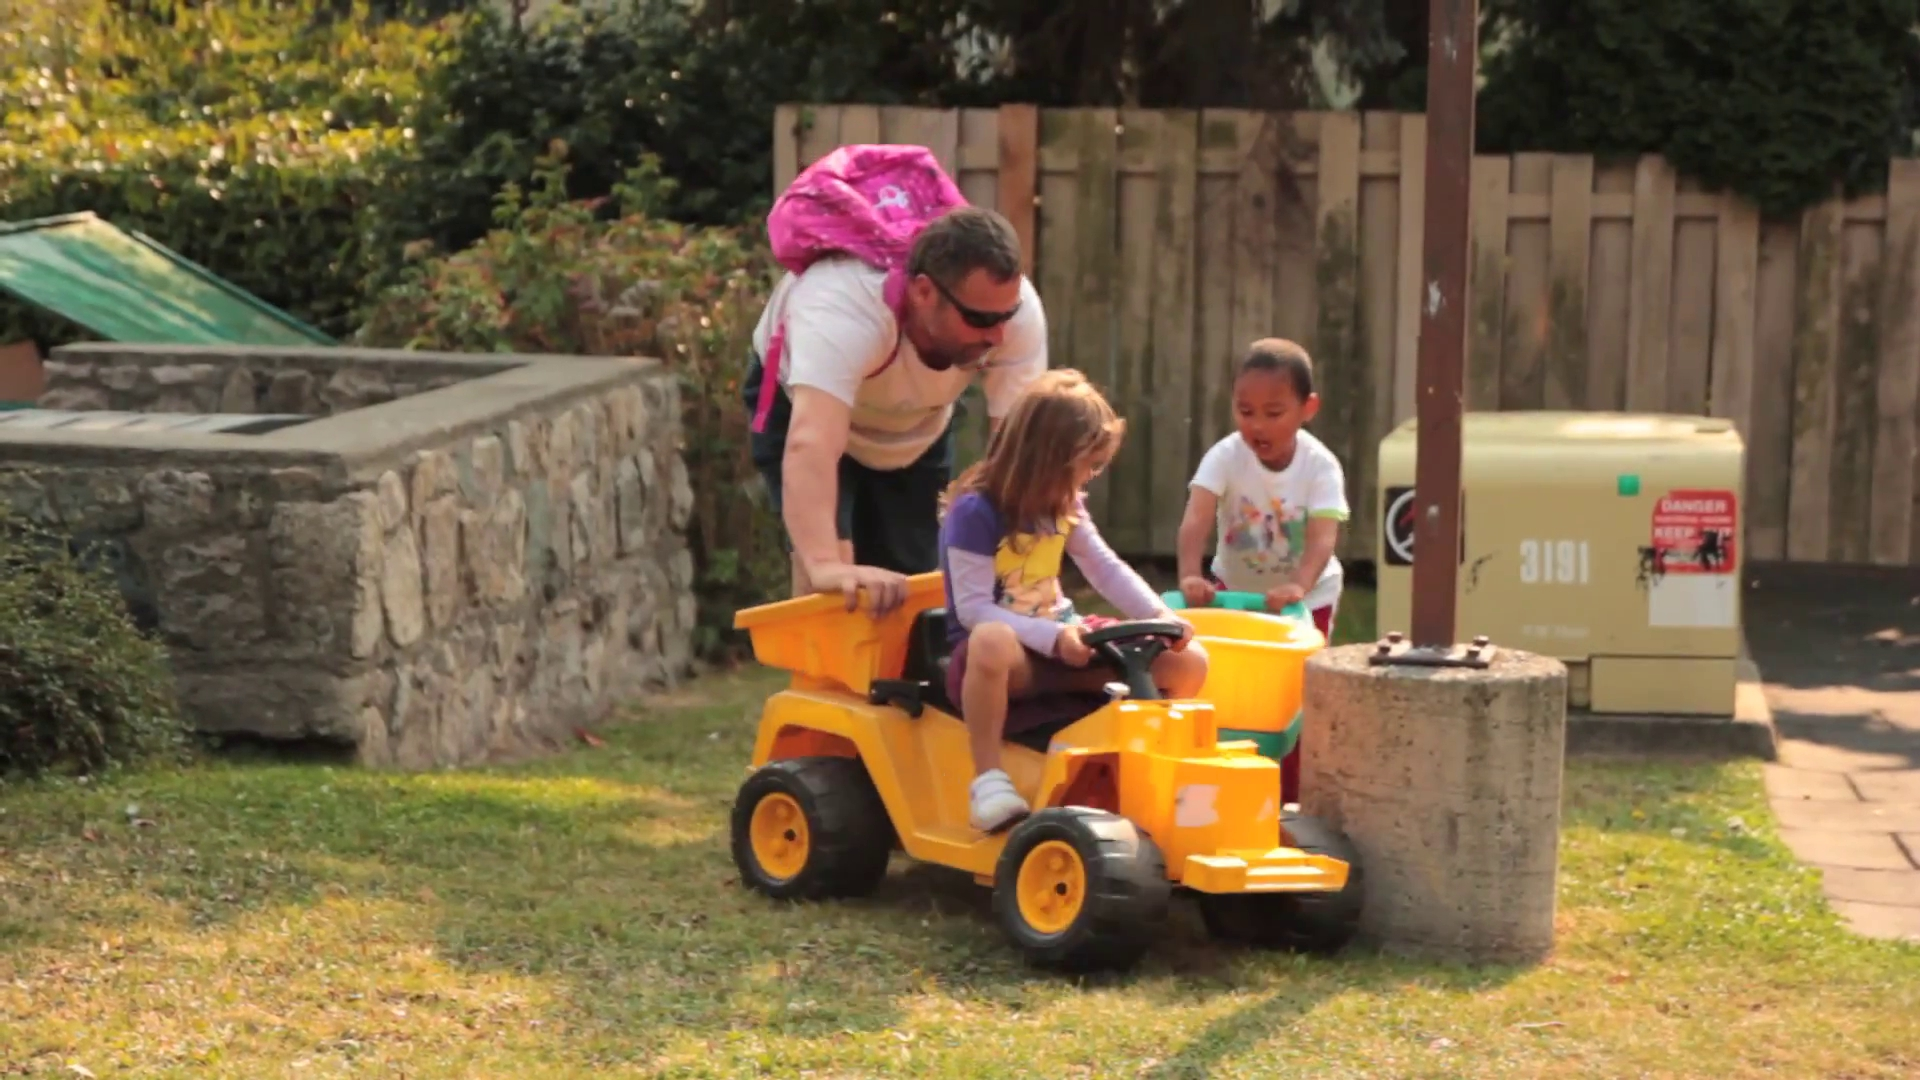person: (741, 144, 1047, 619), (939, 367, 1208, 834), (1176, 336, 1343, 642)
